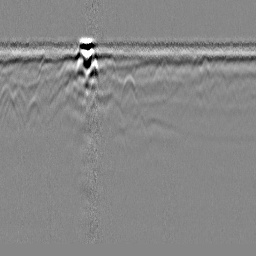cavity: (119, 74, 137, 105)
